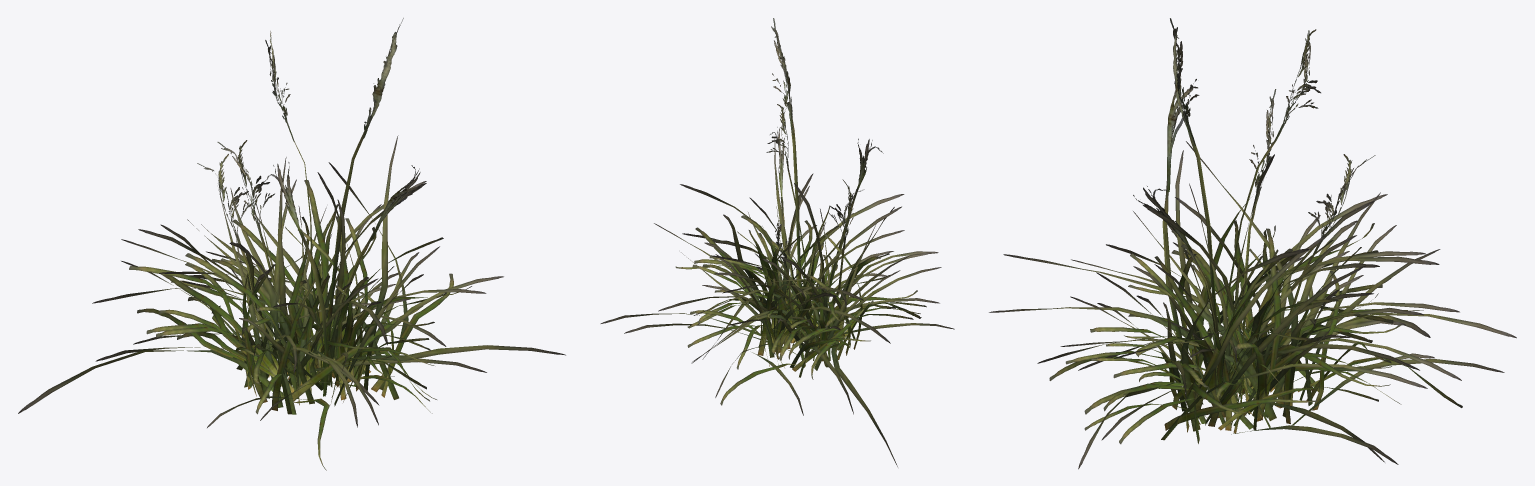
File: grass-clump-lod0.glb
3 views of the same model, side by side, from view 1: azimuth 30°, elevation 25°; view 2: azimuth 150°, elevation 25°; view 3: azimuth 270°, elevation 25° (orthographic). The views are drawn at different scales.
Visible parts, largest first — view 1: grass_medium_01_mid_a_LOD0; view 2: grass_medium_01_mid_a_LOD0; view 3: grass_medium_01_mid_a_LOD0.
Boxes of the visible parts, x1,y1,x2,y2 form: grass_medium_01_mid_a_LOD0: (18, 18, 565, 470); grass_medium_01_mid_a_LOD0: (600, 18, 954, 466); grass_medium_01_mid_a_LOD0: (989, 18, 1516, 469).
Bounding box in the file's own units: 0.2156 × 0.2178 × 0.2214.
1 material, 1 textured.
